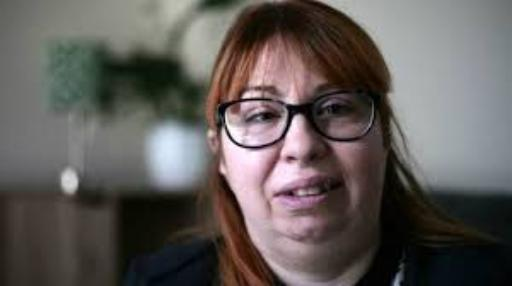left_eye: (322, 103, 351, 118)
left_lip_corner: (331, 180, 348, 193)
right_eye: (245, 112, 279, 123)
right_lip_corner: (271, 189, 288, 205)
